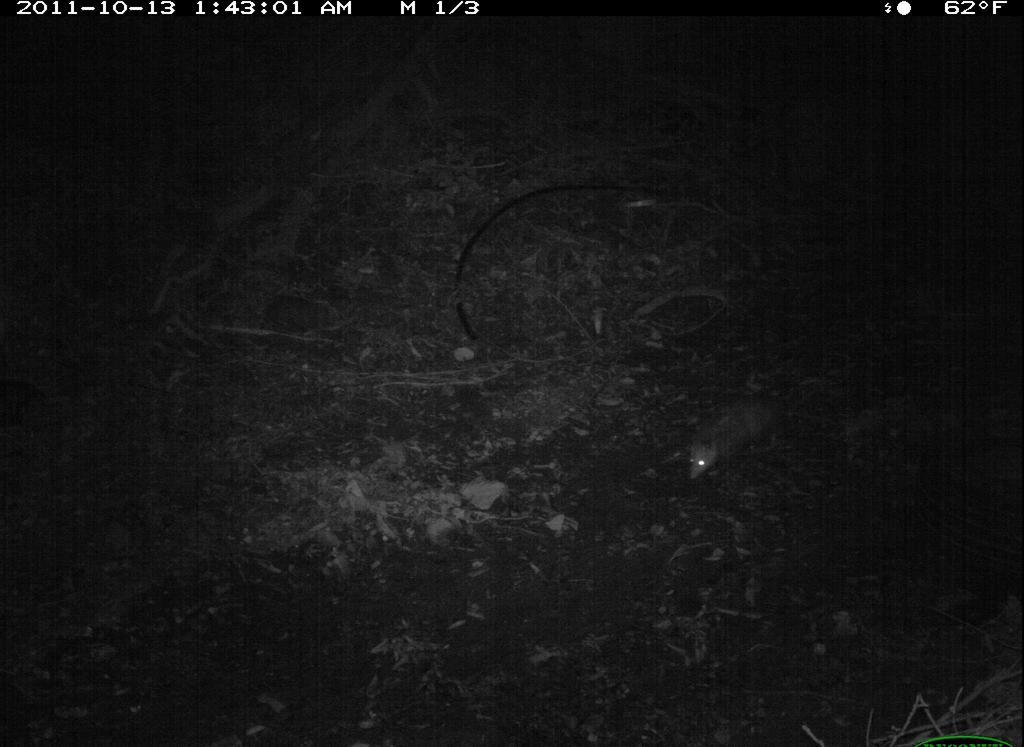opossum: (677, 387, 807, 492)
